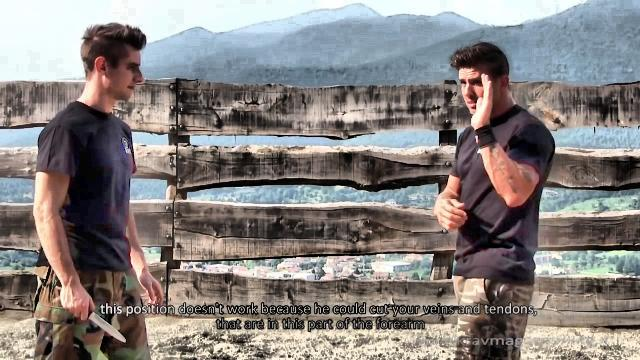knife: (56, 291, 130, 349)
